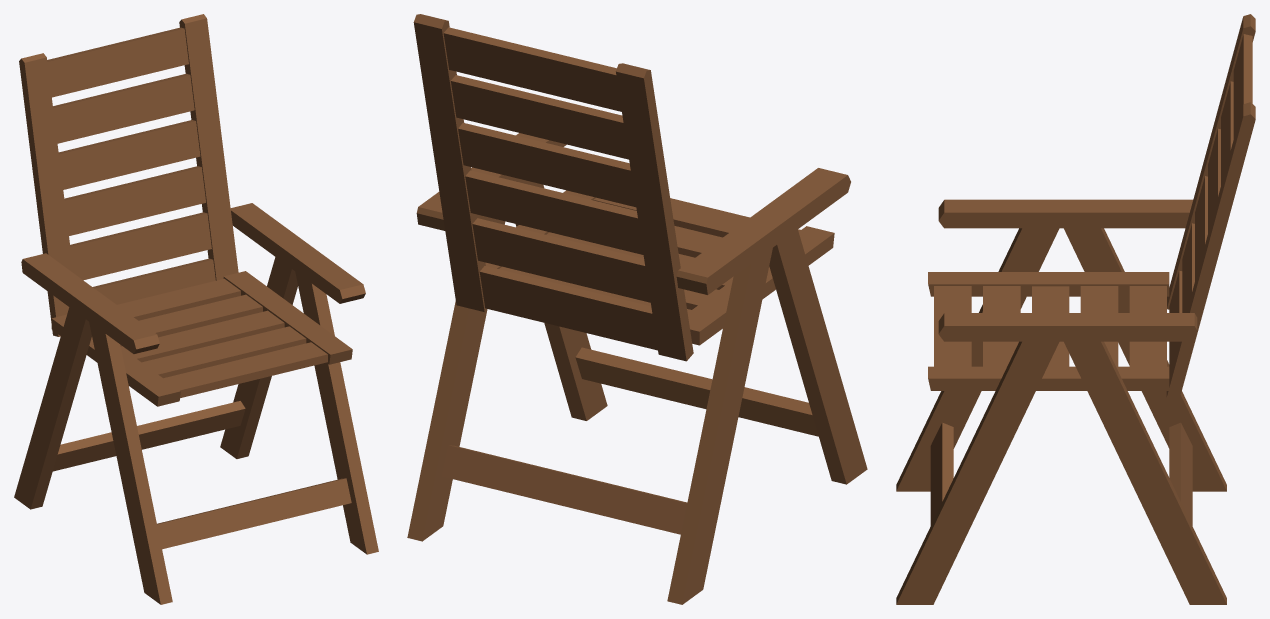
File: chair-outside-wooden.fbx
The picture shows the model from 3 angles, left to right: view 1: azimuth 30°, elevation 25°; view 2: azimuth 150°, elevation 25°; view 3: azimuth 270°, elevation 25°; orthographic projection. The views are drawn at different scales.
Parts seen in each view (by area): view 1: chair-outside-wooden; view 2: chair-outside-wooden; view 3: chair-outside-wooden.
Boxes of the visible parts, <box> form: chair-outside-wooden: <box>14,14,378,604</box>; chair-outside-wooden: <box>407,14,867,604</box>; chair-outside-wooden: <box>896,14,1255,604</box>.
Bounding box in the file's own units: 0.632 × 1.12 × 0.7607.
